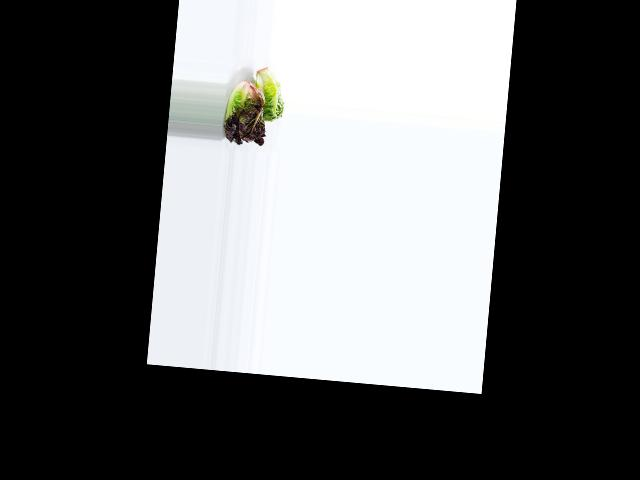lettuce: (250, 64, 287, 123)
